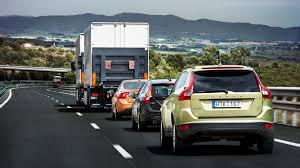car: (161, 66, 273, 151), (133, 80, 179, 127), (110, 78, 149, 118)
